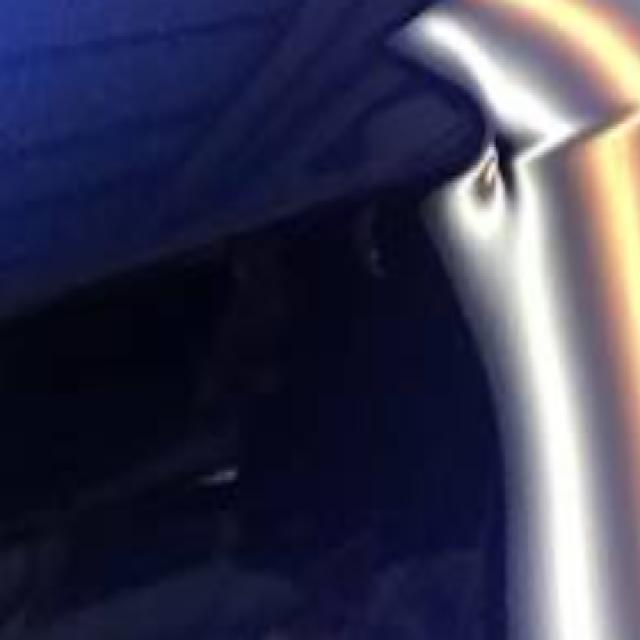dents: (432, 65, 584, 247)
